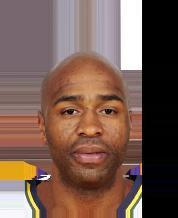face: (53, 95, 116, 167)
